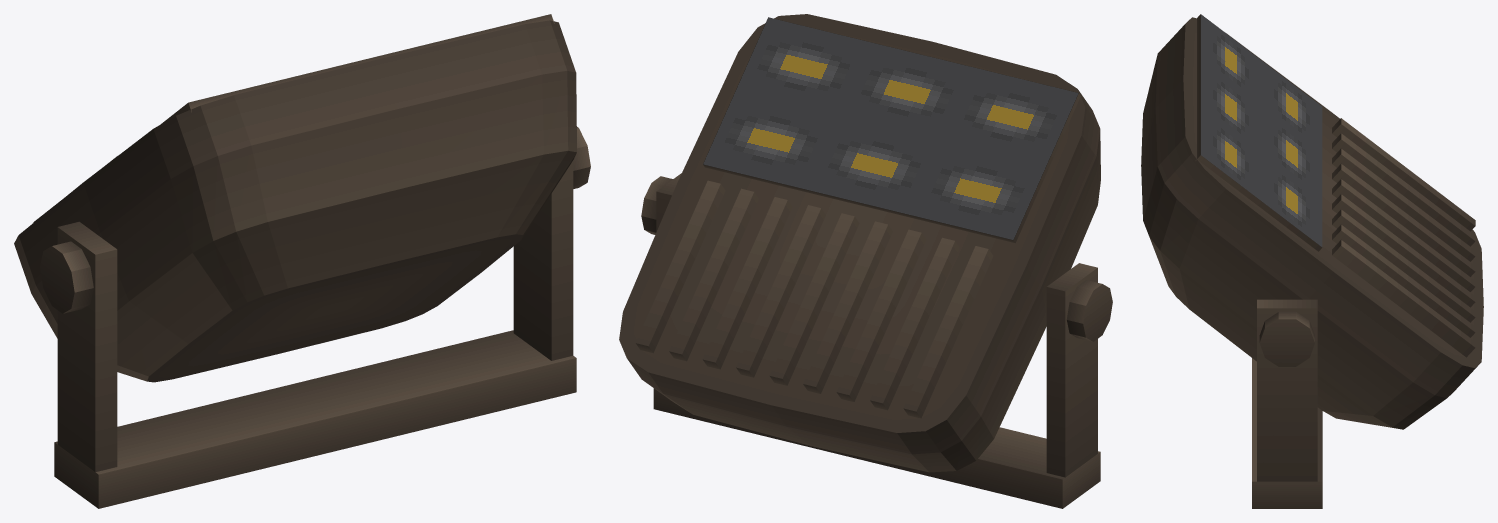
Rendered from floodlight_lithdsxf3yk_g.obj.
The picture shows the model from 3 angles, left to right: view 1: azimuth 30°, elevation 25°; view 2: azimuth 150°, elevation 25°; view 3: azimuth 270°, elevation 25°; orthographic projection. The views are drawn at different scales.
Visible parts, largest first — view 1: fixture; view 2: fixture; view 3: fixture.
Boxes of the visible parts, x1,y1,x2,y2 form: fixture: (14,14,590,508); fixture: (619,14,1112,508); fixture: (1141,14,1483,508).
Bounding box in the file's own units: 0.5893 × 0.462 × 0.4252.
